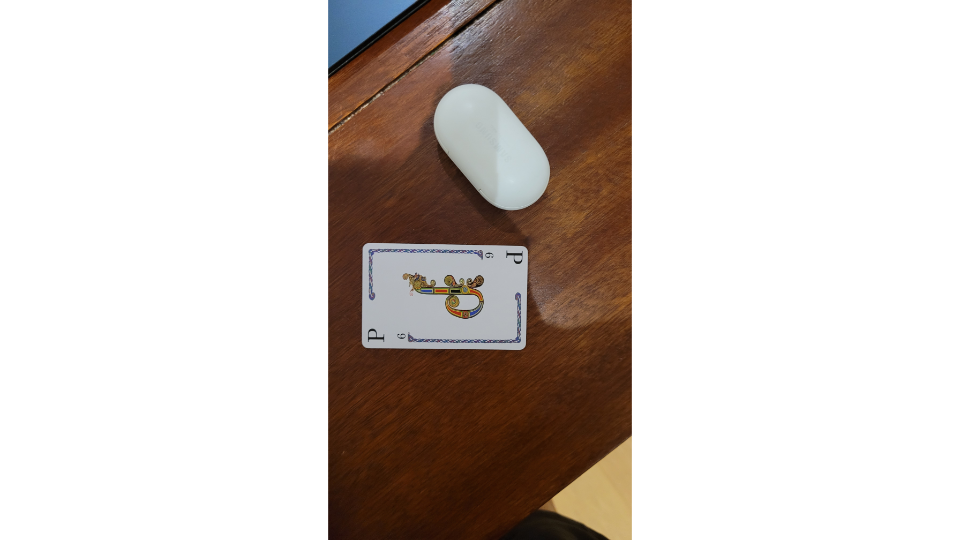P: (358, 241, 530, 353)
